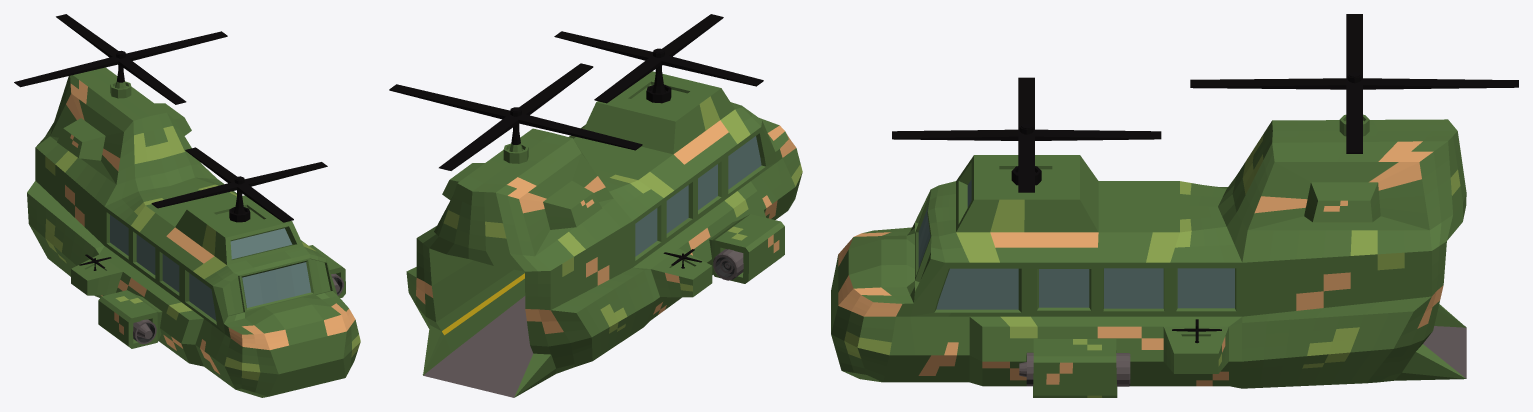
Rendered from helicopterblend13blend.fbx.
3 renders of one model, left to right at view 1: azimuth 30°, elevation 25°; view 2: azimuth 150°, elevation 25°; view 3: azimuth 270°, elevation 25°, orthographic. The views are drawn at different scales.
Visible parts, largest first — view 1: Cube, propeller2, propeller1; view 2: Cube, propeller2, propeller1; view 3: Cube, propeller2, propeller1.
Boxes of the visible parts, x1,y1,x2,y2 form: Cube: (27,67,360,397); propeller2: (14,14,227,104); propeller1: (151,147,327,222); Cube: (406,71,802,397); propeller2: (389,63,642,170); propeller1: (554,14,763,103); Cube: (831,119,1466,397); propeller2: (1190,14,1518,153); propeller1: (892,77,1161,192).
Bounding box in the file's own units: 408 × 366 × 816.
